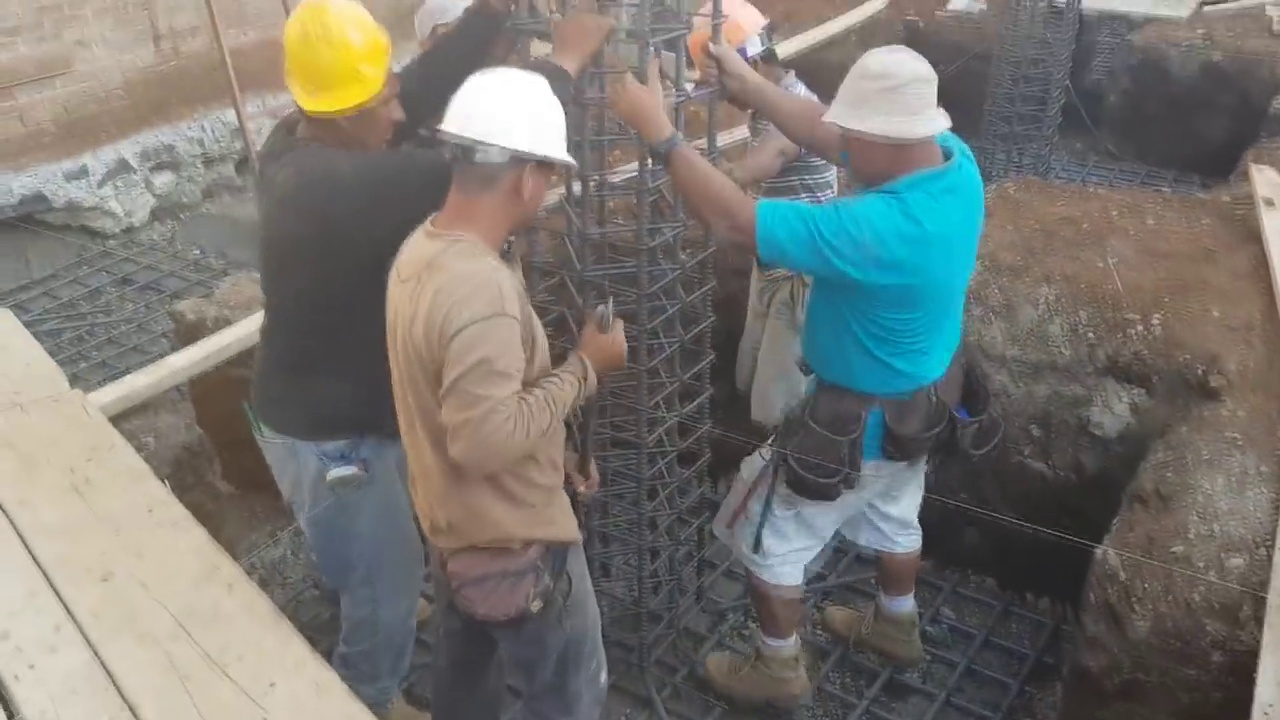helmet: (278, 2, 404, 123), (430, 62, 576, 165), (685, 2, 771, 92)
helmet-off: (800, 47, 956, 190)
helmet-on: (426, 60, 578, 252), (273, 2, 396, 168), (685, 0, 797, 116)
person: (638, 3, 1003, 714), (379, 64, 618, 720), (240, 0, 445, 674), (680, 2, 835, 470)
